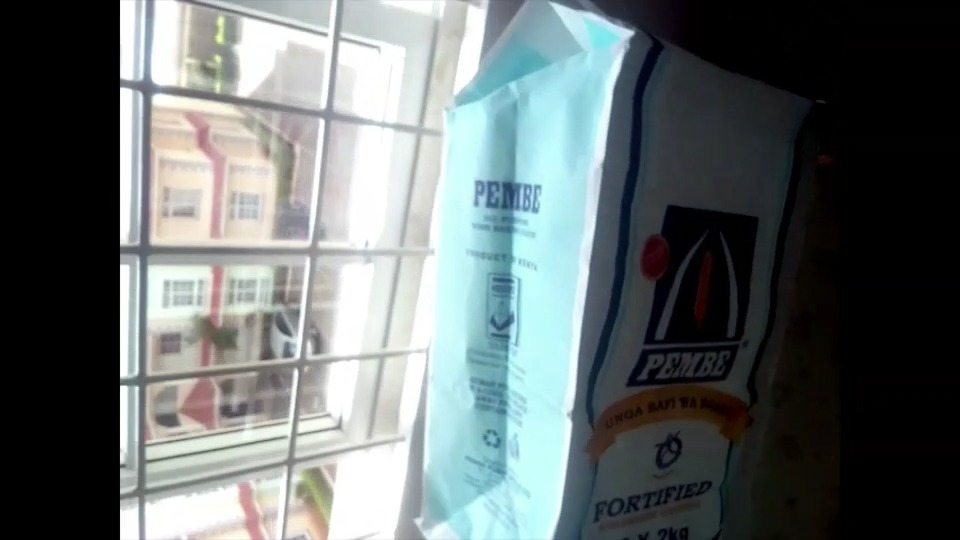wheat_flour_blue_label: (419, 0, 808, 540)
